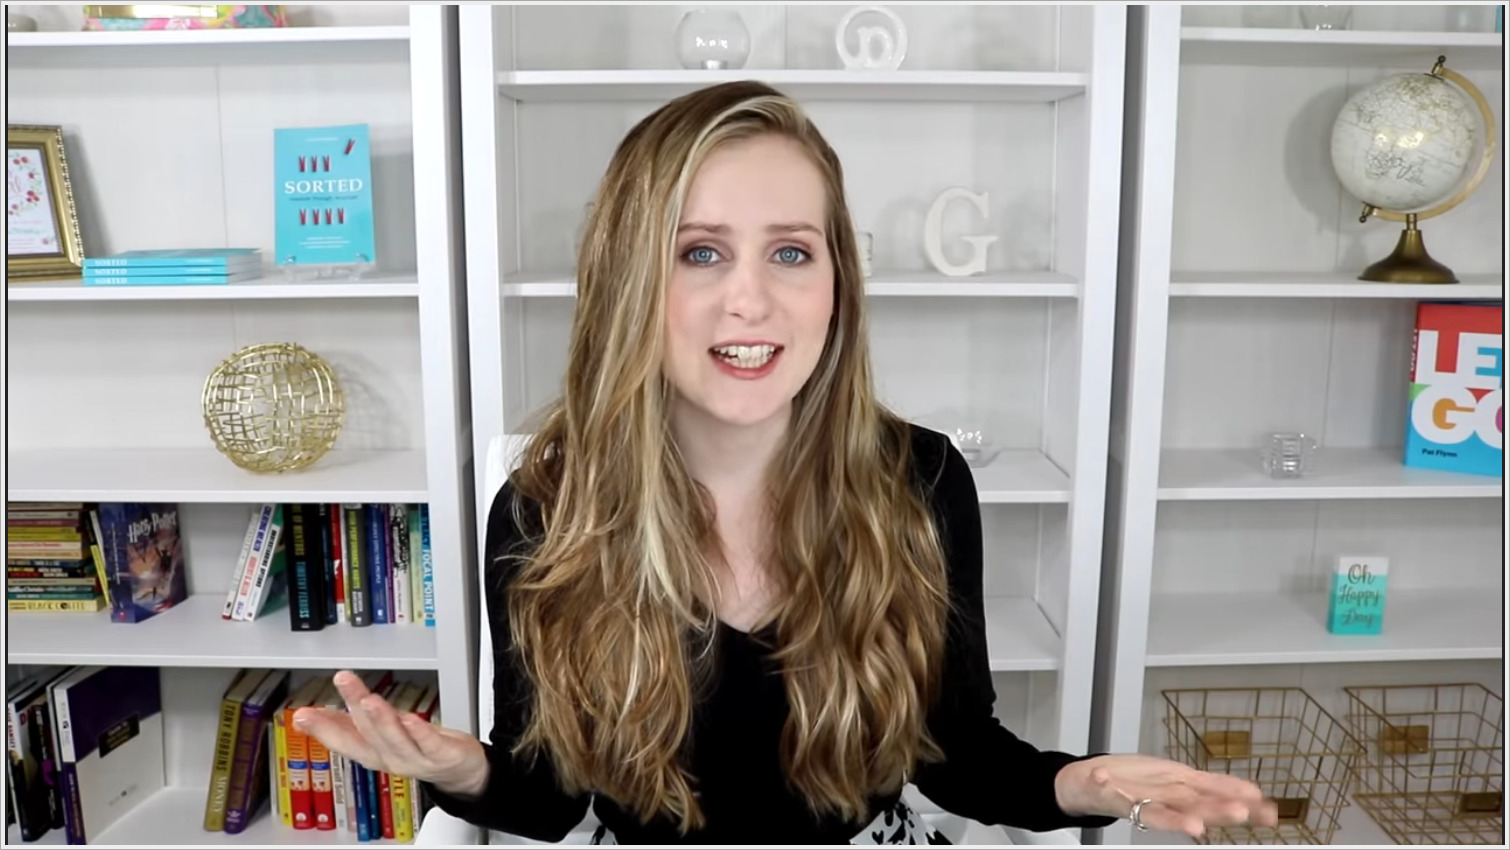hand: (286, 668, 486, 788), (1054, 752, 1281, 841)
